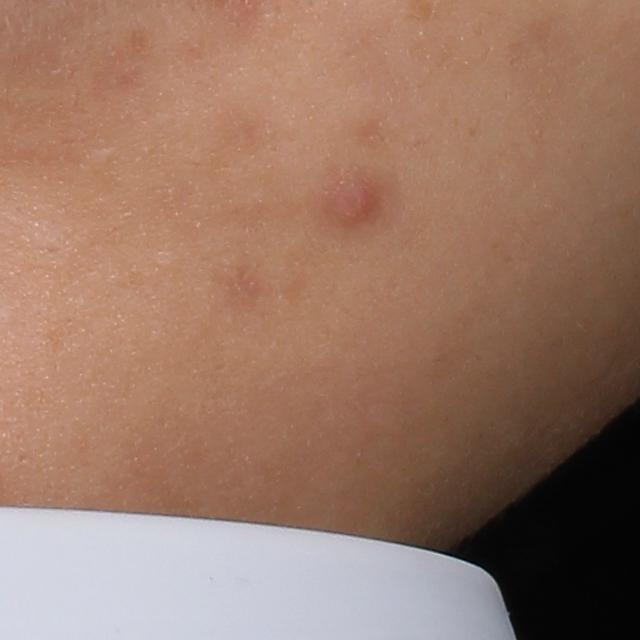papule: (330, 178, 388, 227)
